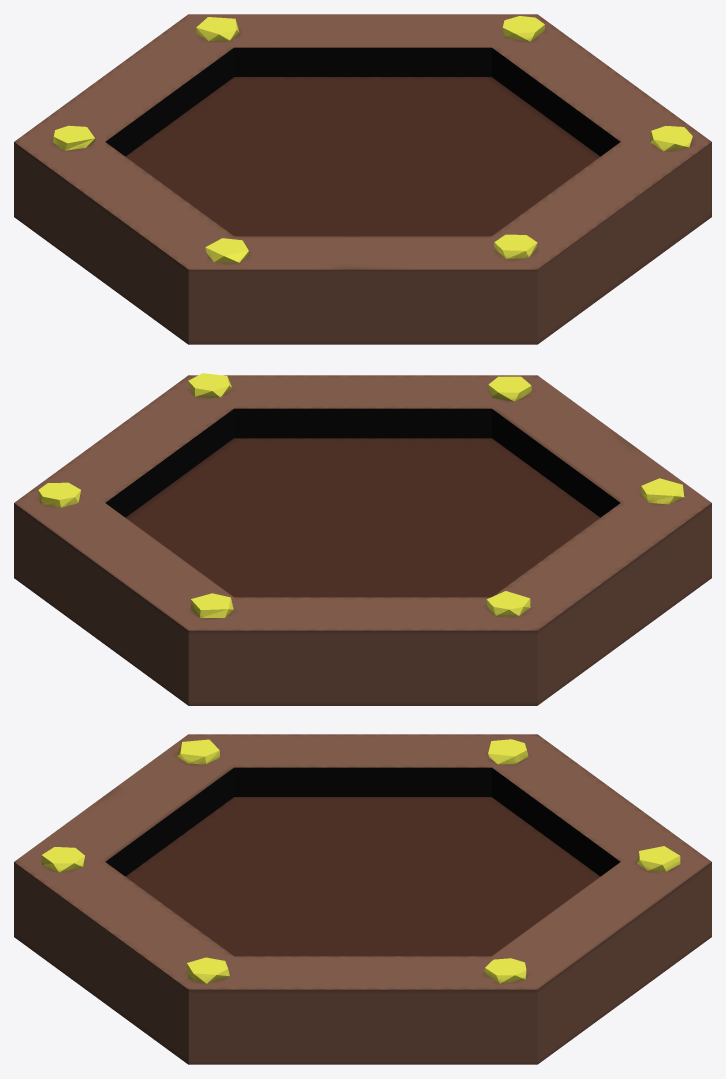
Rendered from Enemies.fbx.
The picture shows the model from 3 angles, top to bottom: view 1: azimuth 30°, elevation 25°; view 2: azimuth 150°, elevation 25°; view 3: azimuth 270°, elevation 25°; orthographic projection.
Parts seen in each view (by area): view 1: Enemies; view 2: Enemies; view 3: Enemies.
Boxes of the visible parts, x1,y1,x2,y2 form: Enemies: (14,14,711,344); Enemies: (14,373,711,705); Enemies: (14,734,711,1064).
Bounding box in the file's own units: 44.87 × 6.81 × 51.81.
